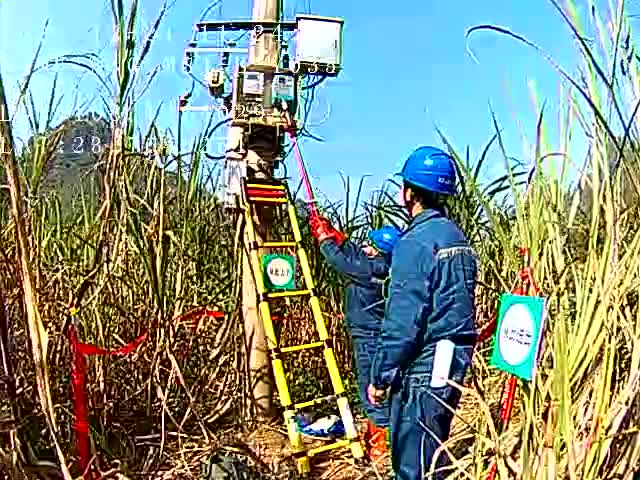halt: (402, 148, 461, 213)
